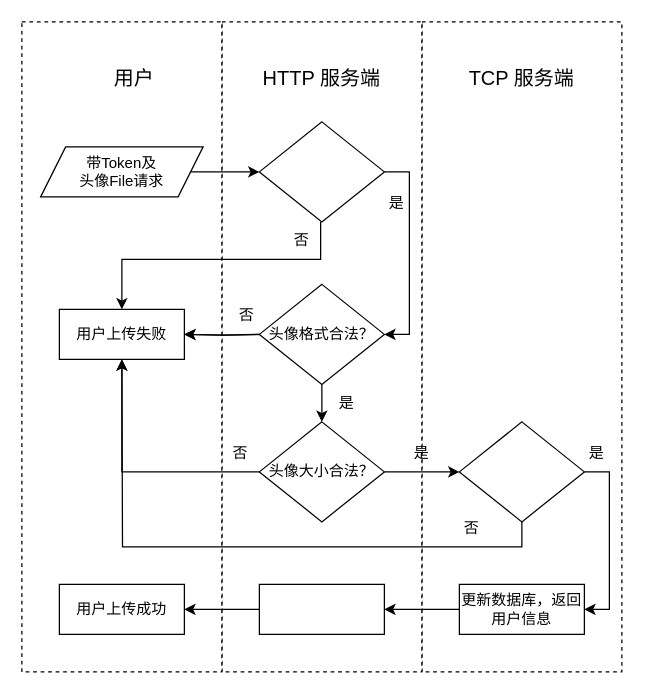
Image size: 656x694. Some labels were removed from this diagram. Here are the shapes that lost their labels. From the top down, the centre of each, then its label:
the point at 321,171: Token 合法？
the point at 521,471: 账户存在？
the point at 321,608: 返回用户信息
